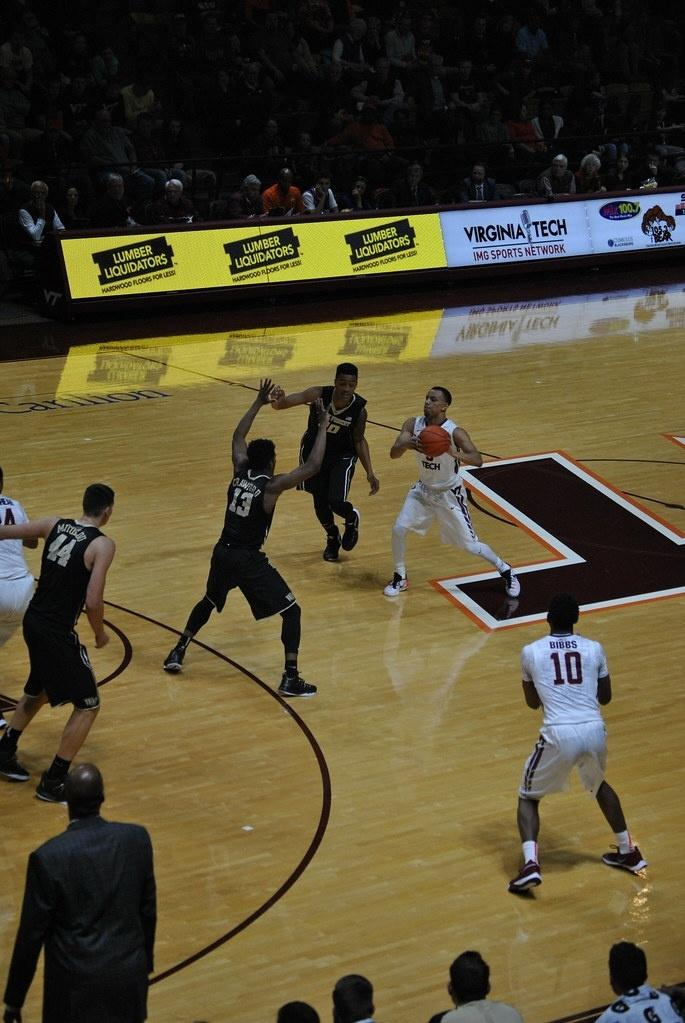basketball-player: (488, 584, 657, 909), (0, 480, 139, 817), (184, 386, 324, 719), (382, 384, 521, 599), (254, 352, 387, 566), (0, 454, 42, 684), (417, 424, 450, 457)
